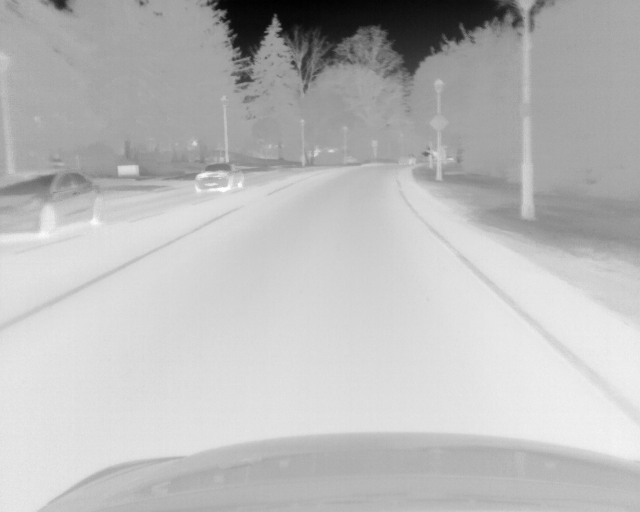car: (1, 168, 105, 238), (194, 162, 244, 194), (398, 154, 415, 166)
